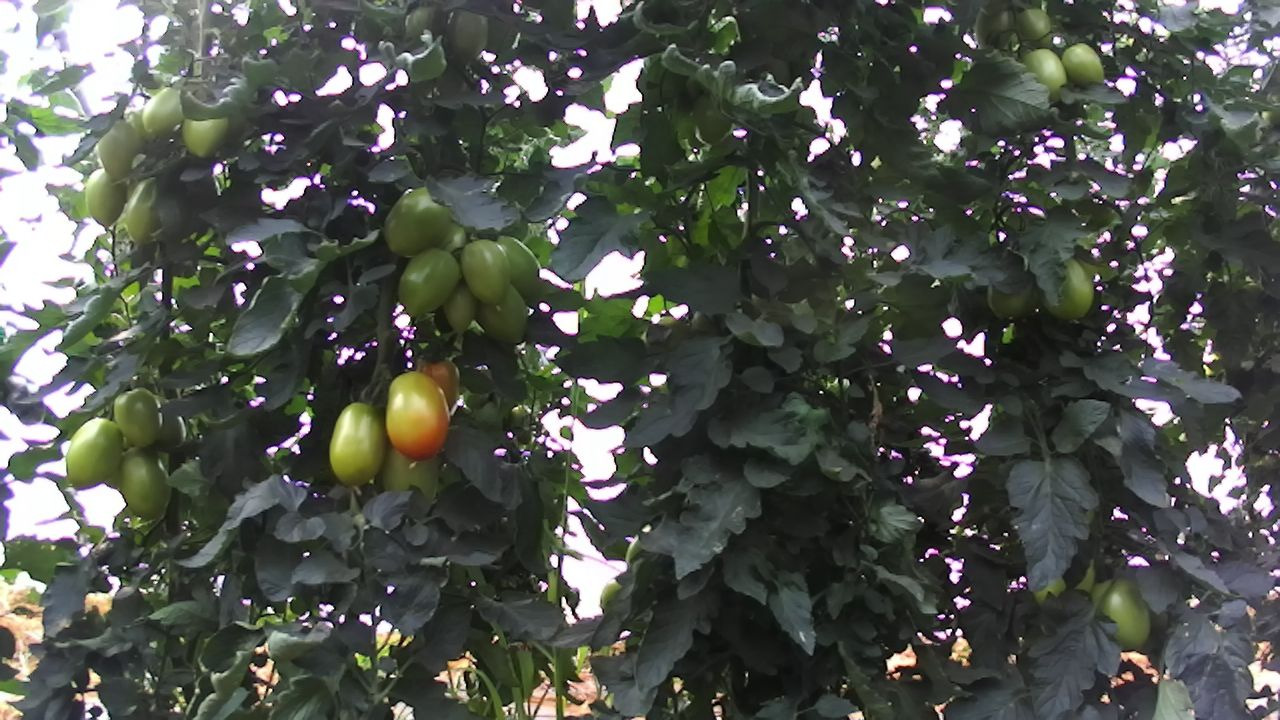tomato: (383, 366, 452, 463), (326, 396, 387, 489), (381, 183, 455, 259), (1084, 577, 1156, 655), (394, 241, 462, 319), (115, 441, 174, 525), (63, 415, 123, 496), (1035, 252, 1100, 324), (472, 281, 532, 348), (87, 115, 146, 183), (456, 236, 511, 307), (111, 383, 165, 451), (120, 168, 165, 248), (1016, 45, 1069, 108), (83, 162, 127, 232), (442, 6, 492, 66), (178, 111, 233, 161), (138, 85, 186, 139), (1012, 4, 1056, 52), (1059, 42, 1105, 86)
